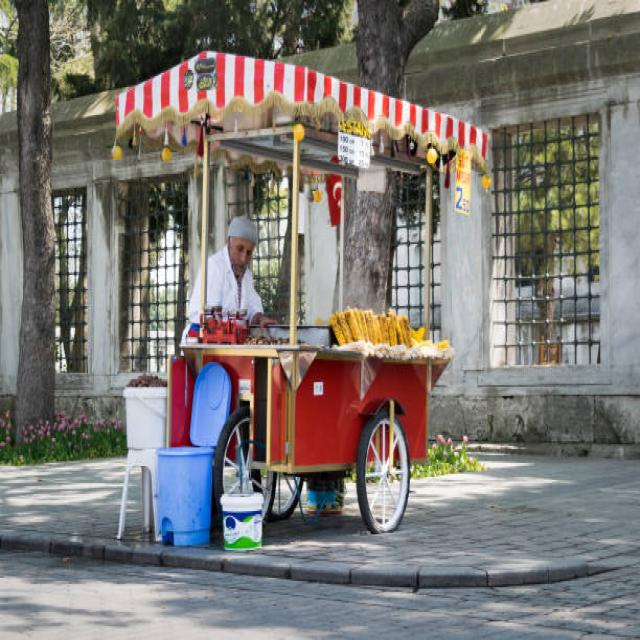Emperan: (92, 34, 494, 566)
